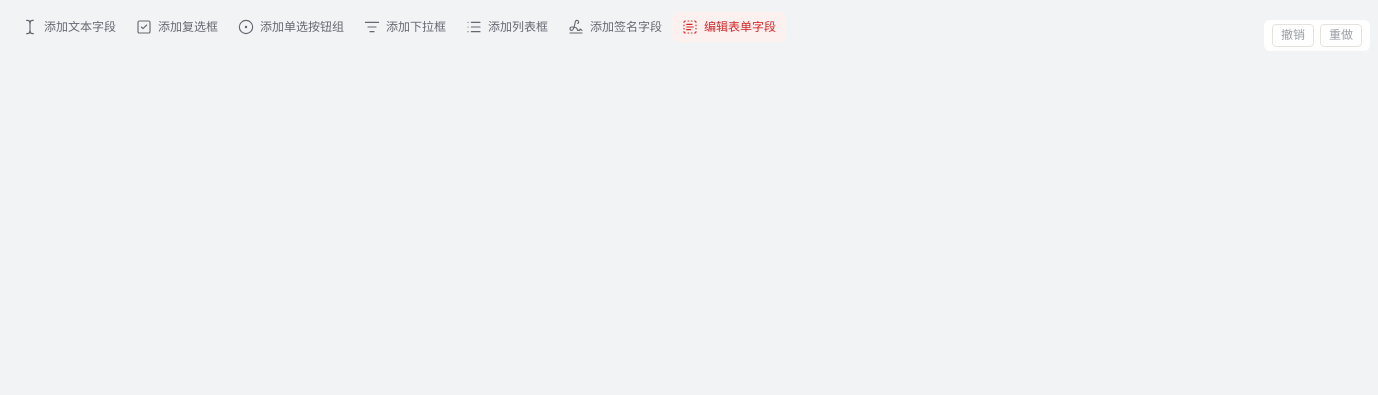
Test: FormLayer › places a radio group and edits its options and default
The image size is (1378, 395).
Click the button "添加单选按钮组" at (291, 27), box [228,12,354,42]
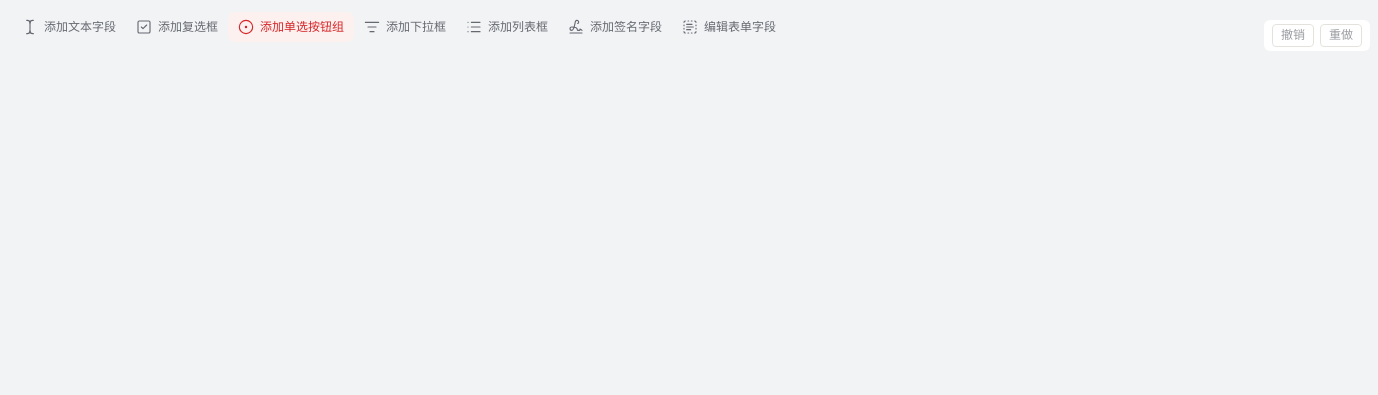
Press the mouse on the element with class "form-layer" at (691, 31), box [12,12,1370,51]
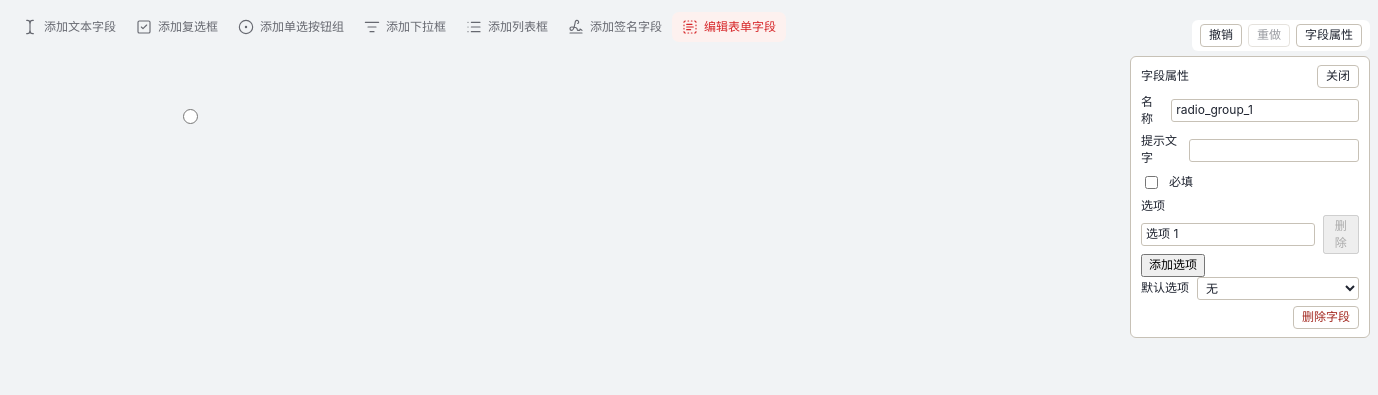
Expected: the field named "字段名称" holds "radio_group_1", [1171,99,1359,122]
Expected: the field named "选项 1" holds "选项 1"
Expected: the dropdown labelled "默认选项" shows "无", [1197,277,1359,300]
Replace the text in the field named "选项 1" with "男" at (1228, 235), box [1141,223,1314,246]
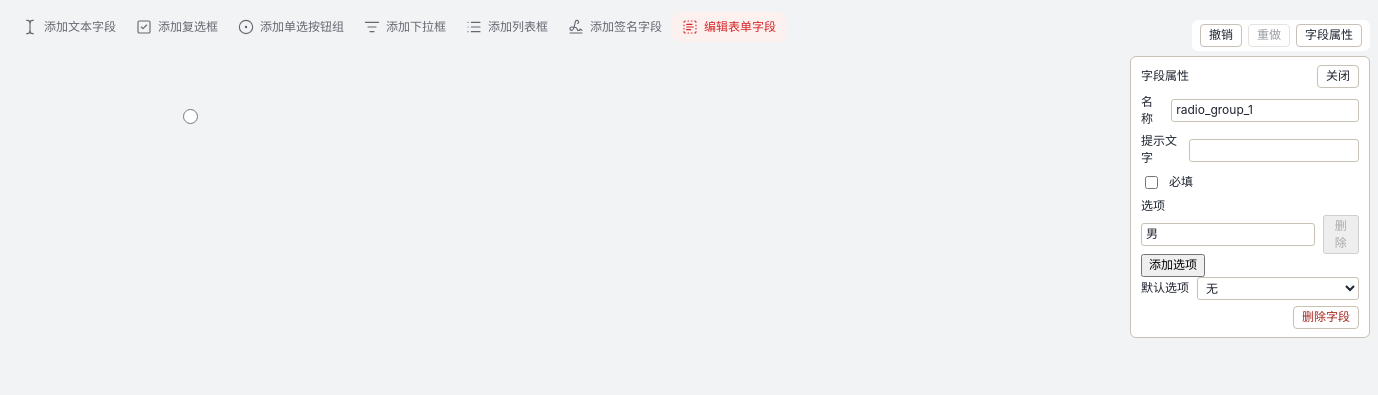
Leave the field named "选项 1", box [1141,223,1314,246]
Expected: the radio button named "radio_group_1（男）" is shown, [173,109,208,124]
Click the button "添加选项" at (1173, 266), box [1141,254,1205,277]
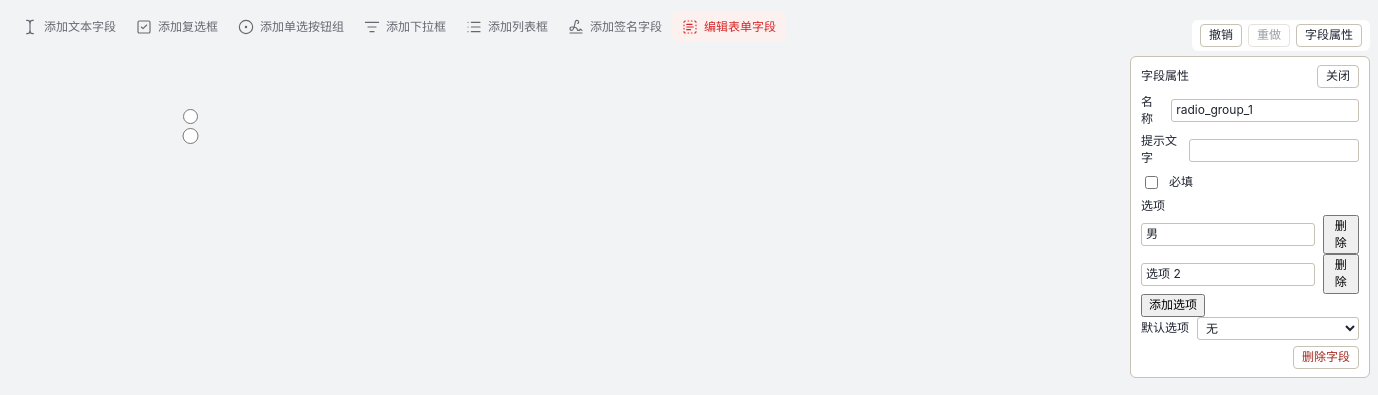
Replace the text in the field named "选项 2" with "女" at (1228, 274), box [1141,263,1314,286]
Select "女" in the dropdown labelled "默认选项" at (1278, 328), box [1197,317,1359,340]
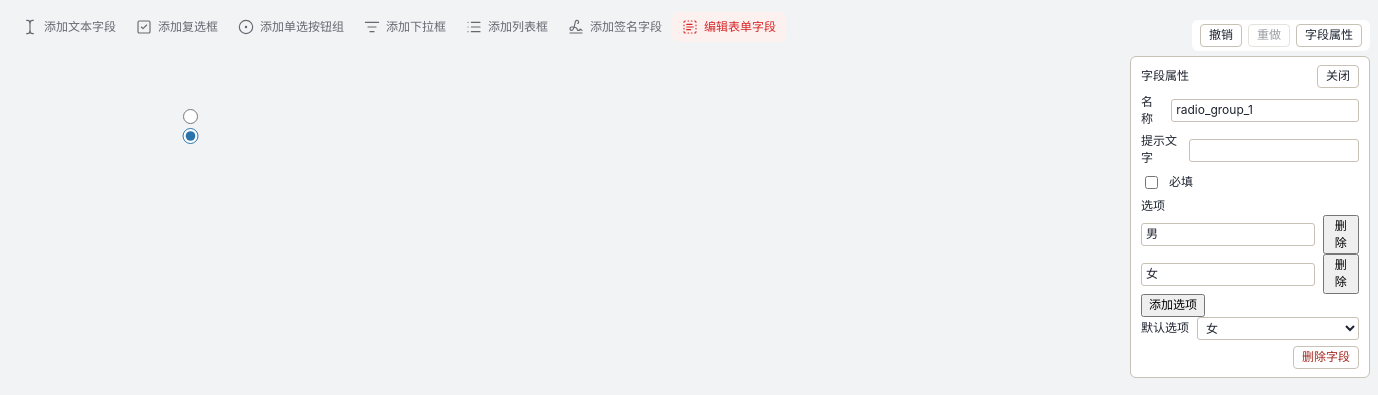
Expected: the radio button named "radio_group_1（女）" is checked, [173,128,208,144]
Click the button with aria-label "删除选项 1" at (1341, 235), box [1322,215,1359,254]
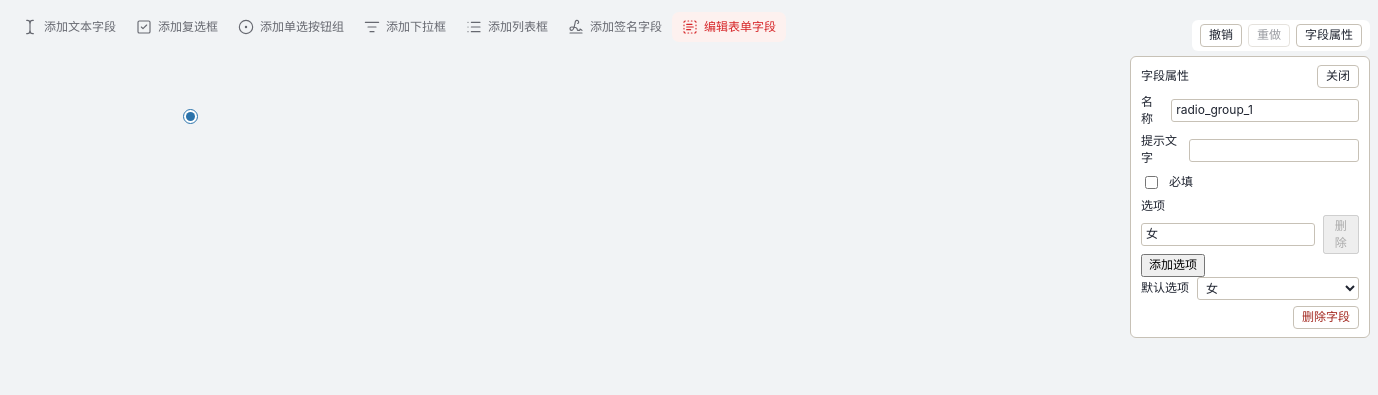
Expected: the field labelled "选项 2" is not shown
Expected: the radio button named "radio_group_1（女）" is checked, [173,109,208,124]
Expected: the button with aria-label "删除选项 1" is disabled, [1322,215,1359,254]
